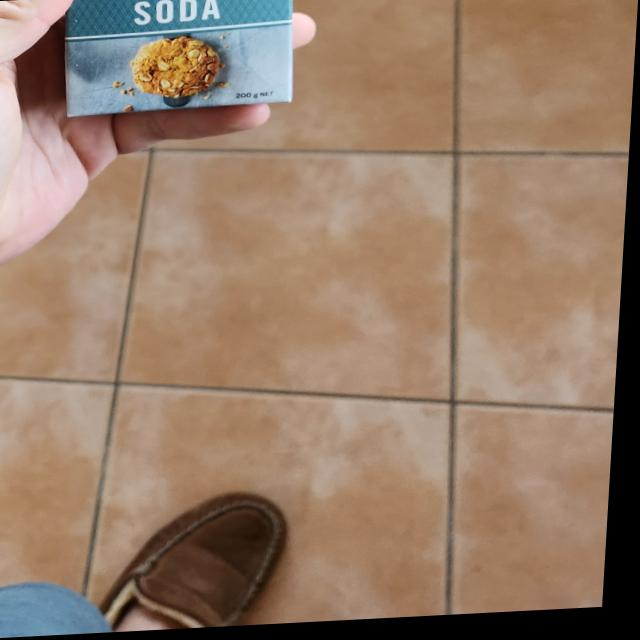baking soda: (54, 0, 300, 123)
